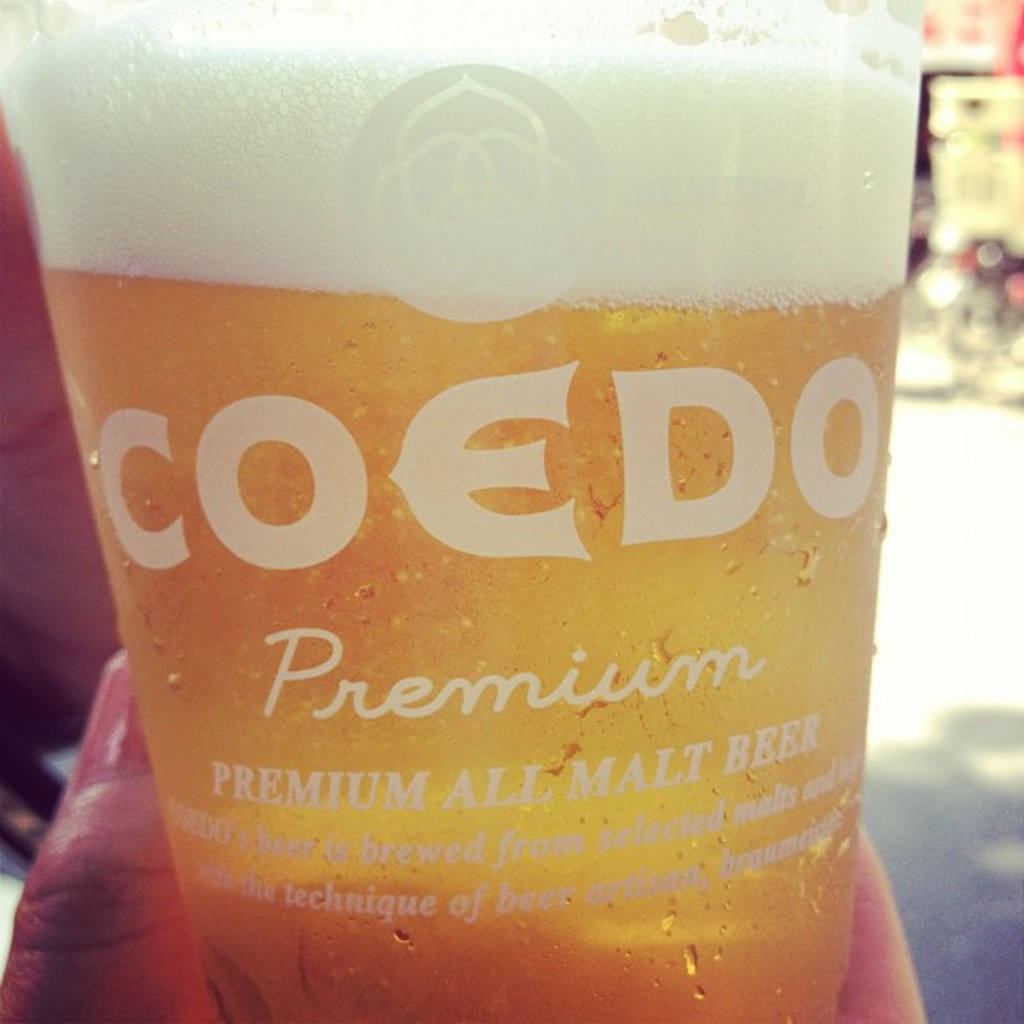Beer: (0, 0, 920, 1022)
